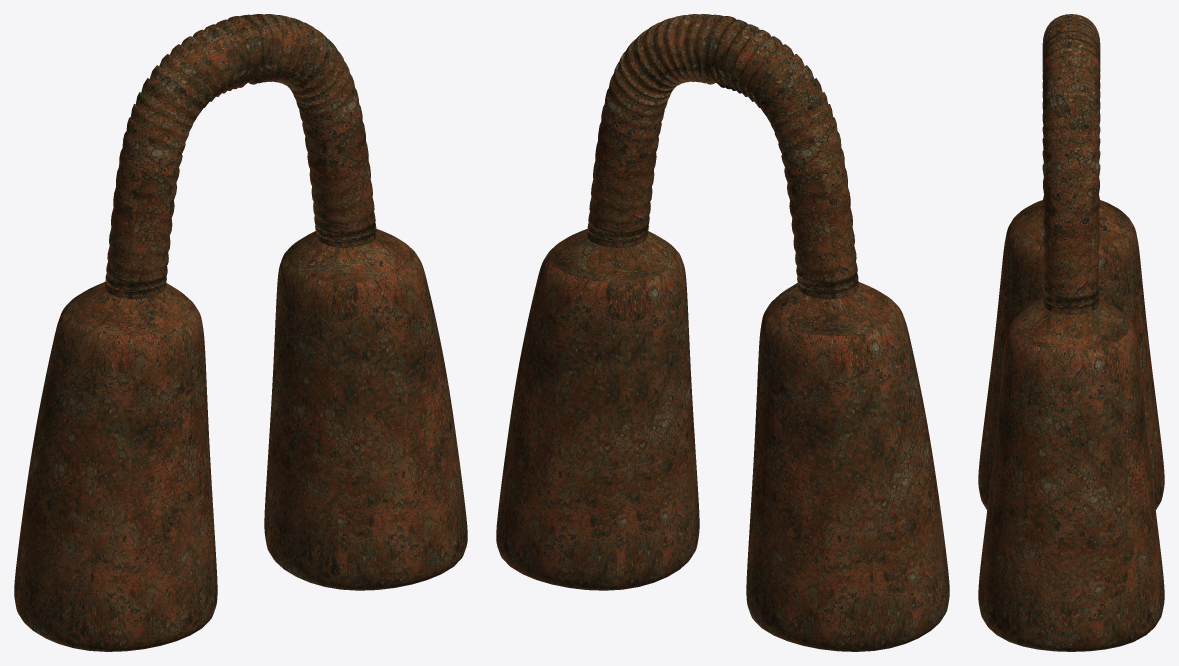
File: bamike-gong.gltf
3 renders of one model, left to right at view 1: azimuth 30°, elevation 25°; view 2: azimuth 150°, elevation 25°; view 3: azimuth 270°, elevation 25°, orthographic. The views are drawn at different scales.
Visible parts, largest first — view 1: Cube, Cube.001; view 2: Cube, Cube.001; view 3: Cube, Cube.001.
Boxes of the visible parts, bbox=[...] form: Cube: bbox=[14, 229, 467, 651]; Cube.001: bbox=[105, 14, 376, 299]; Cube: bbox=[496, 229, 949, 651]; Cube.001: bbox=[587, 14, 858, 299]; Cube: bbox=[978, 200, 1164, 651]; Cube.001: bbox=[1042, 14, 1100, 314].
Bounding box in the file's own units: 4.9 × 6.24 × 1.98.
2 materials, 2 textured.
